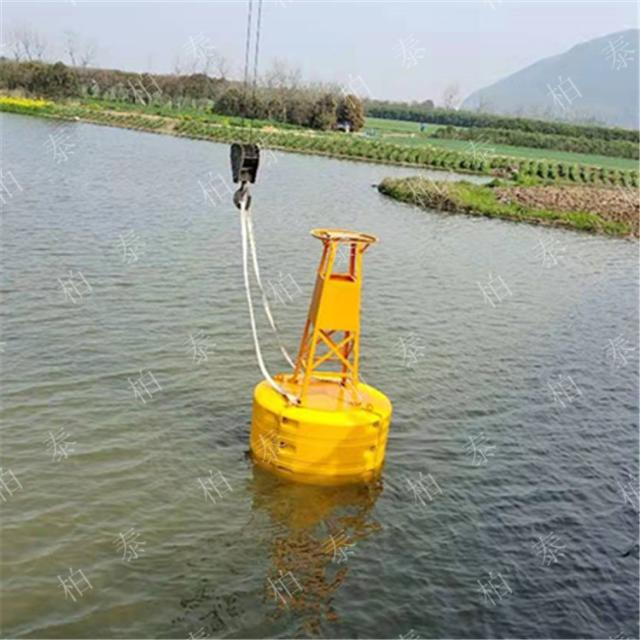buoy: (242, 225, 393, 485)
